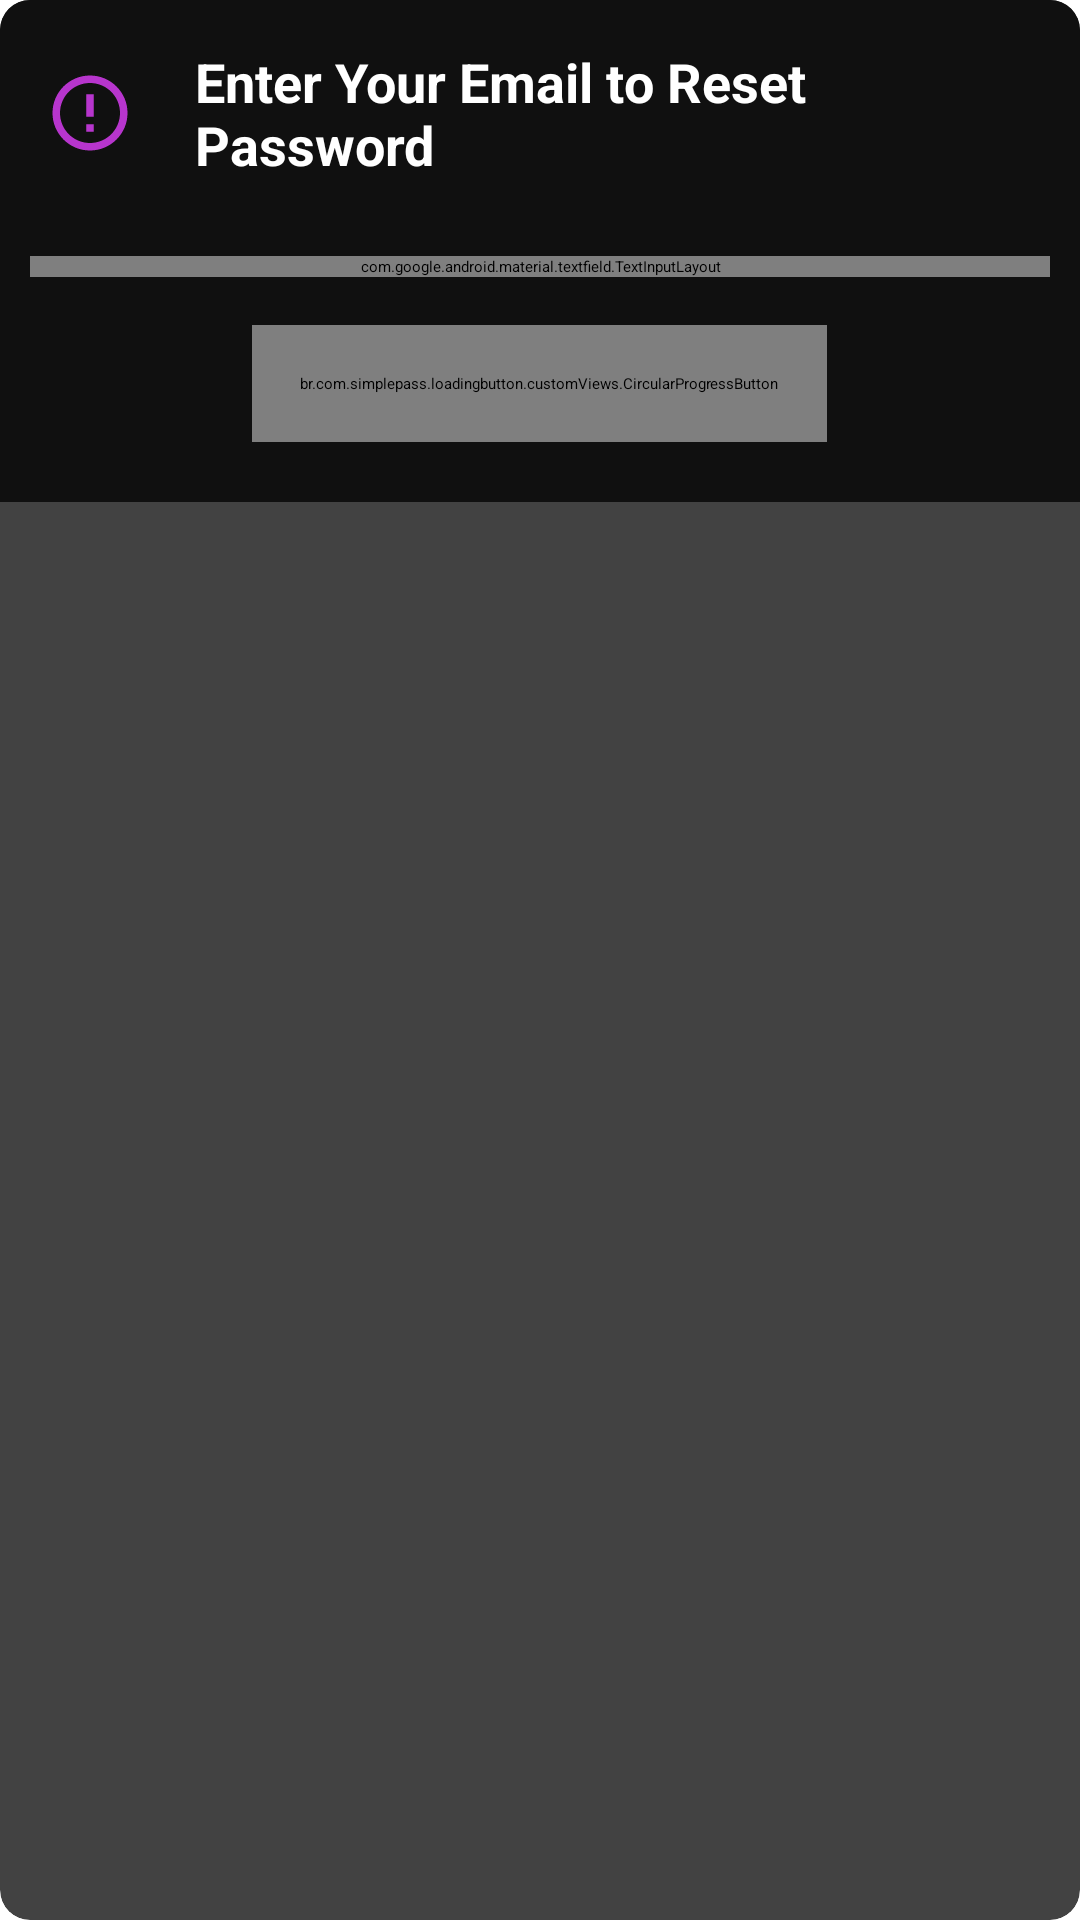

Point at icon controls on the screen. Image size 1080*1920, points as (x=x, y=y).
error: (x=90, y=113)
